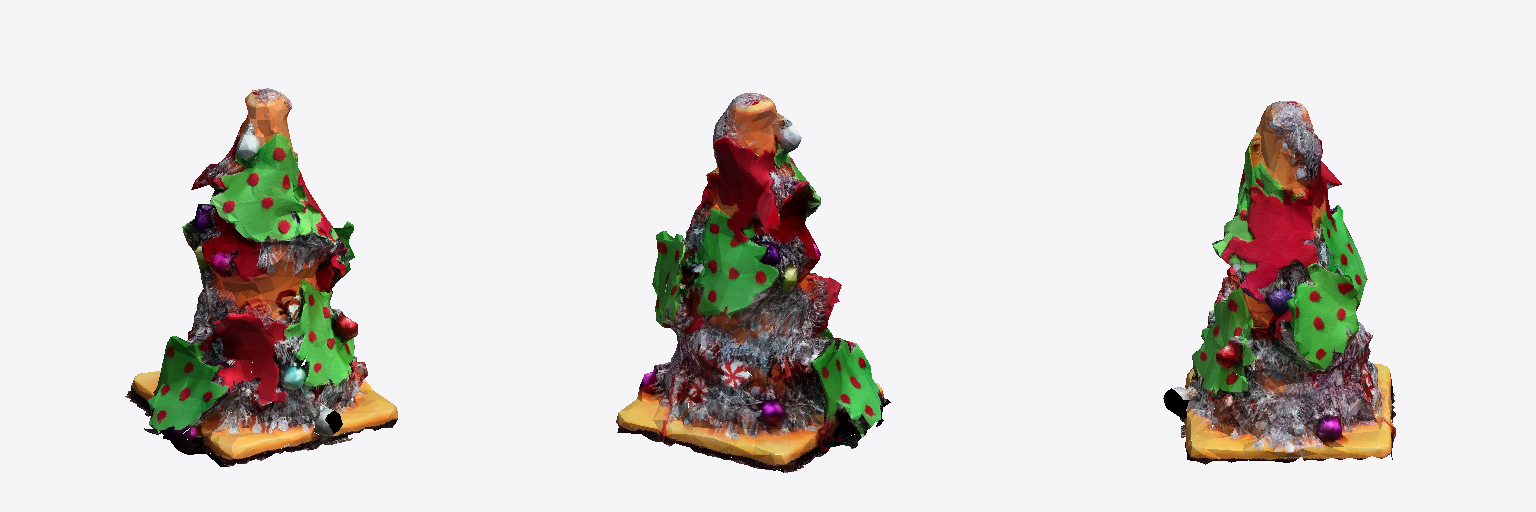
3 views of the same model, side by side, from view 1: azimuth 30°, elevation 25°; view 2: azimuth 150°, elevation 25°; view 3: azimuth 270°, elevation 25° (orthographic).
Parts seen in each view (by area): view 1: poly; view 2: poly; view 3: poly.
Part boxes in pixels (x1,y1,x2,y2): poly: (125, 88, 397, 466); poly: (616, 92, 890, 472); poly: (1163, 101, 1395, 464).
Bounding box in the file's own units: 0.4093 × 0.5896 × 0.3898.
Materials: 1 (1 with a texture image).